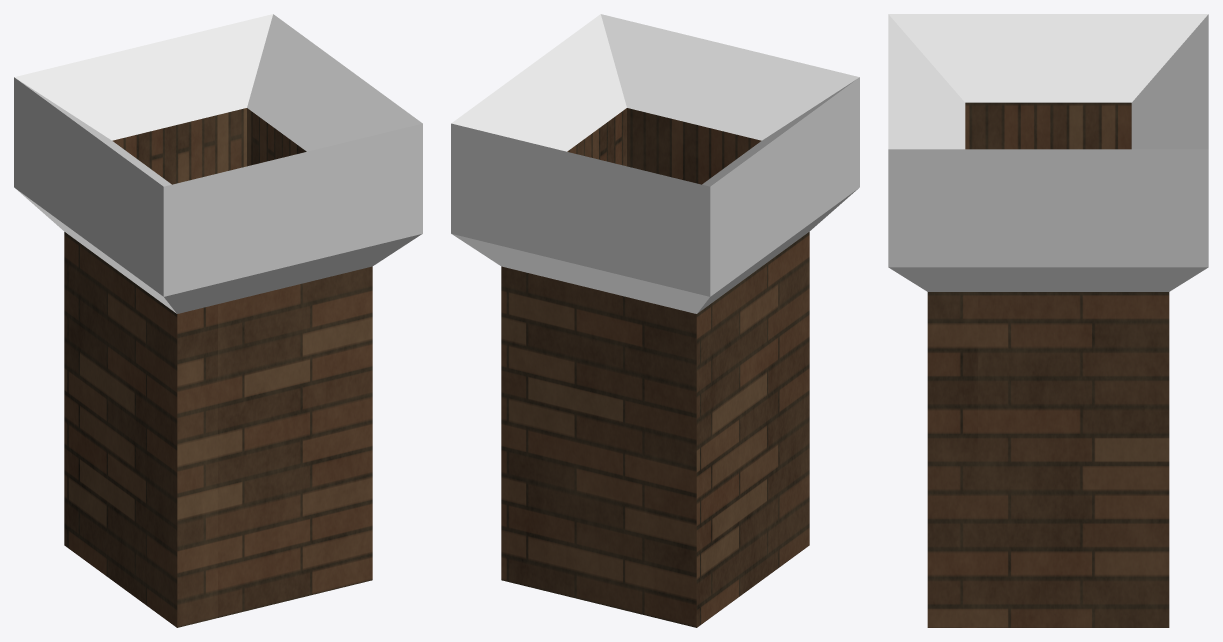
Rendered from Chimney Small.fbx.
3 views of the same model, side by side, from view 1: azimuth 30°, elevation 25°; view 2: azimuth 150°, elevation 25°; view 3: azimuth 270°, elevation 25° (orthographic). The views are drawn at different scales.
Parts seen in each view (by area): view 1: chimney; view 2: chimney; view 3: chimney.
Boxes of the visible parts, bbox=[...] form: chimney: bbox=[14, 14, 422, 627]; chimney: bbox=[451, 14, 859, 627]; chimney: bbox=[888, 14, 1208, 627].
Bounding box in the file's own units: 94 × 94 × 160.
Materials: 2 (1 with a texture image).
